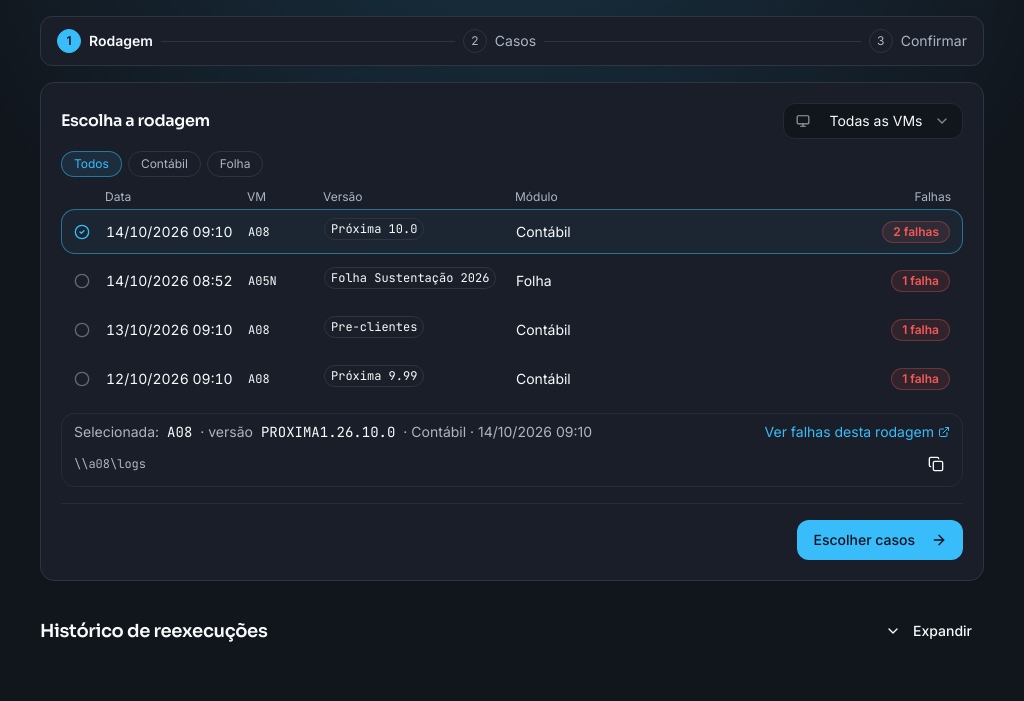
Test: Reexecutar rodagens (etapas) › historico de reexecucoes em paginas de 10, sem o ocultar finalizadas
(page scrolled)
expect the heading "Histórico de reexecuções" is shown: met, box [40,617,268,645]
Click the button "Expandir".
click(928, 631)  # box [873,613,984,649]
(page scrolled)
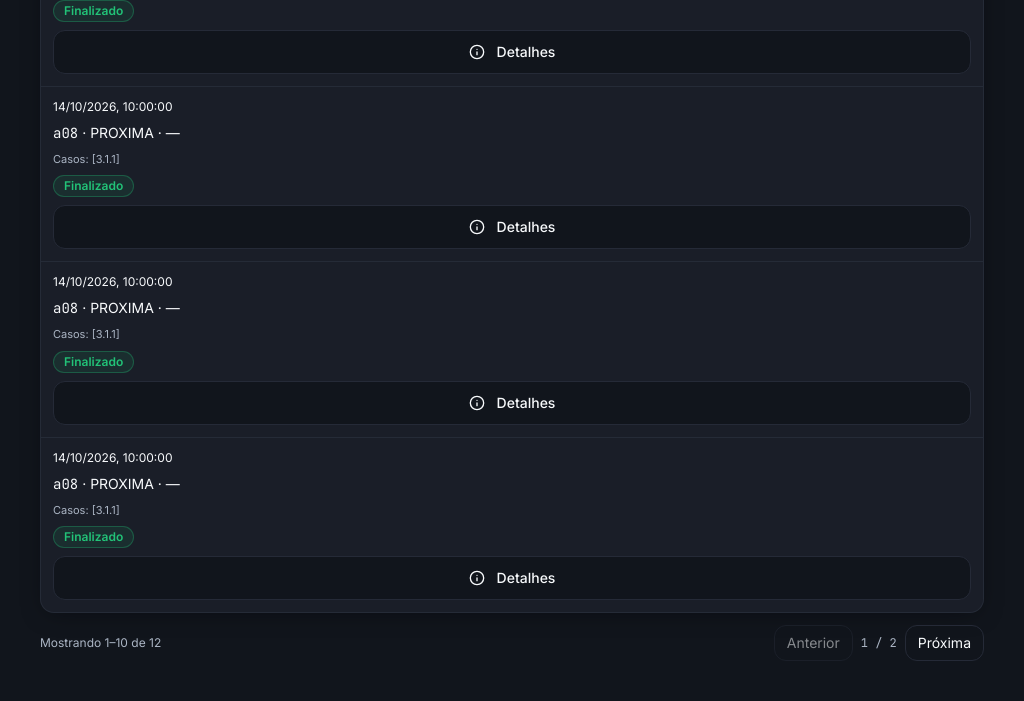
expect the text "Mostrando 1–10 de 12" is shown: met, box [40,635,161,651]
Click the button "Próxima".
click(944, 643)  # box [905,625,984,661]
(page scrolled)
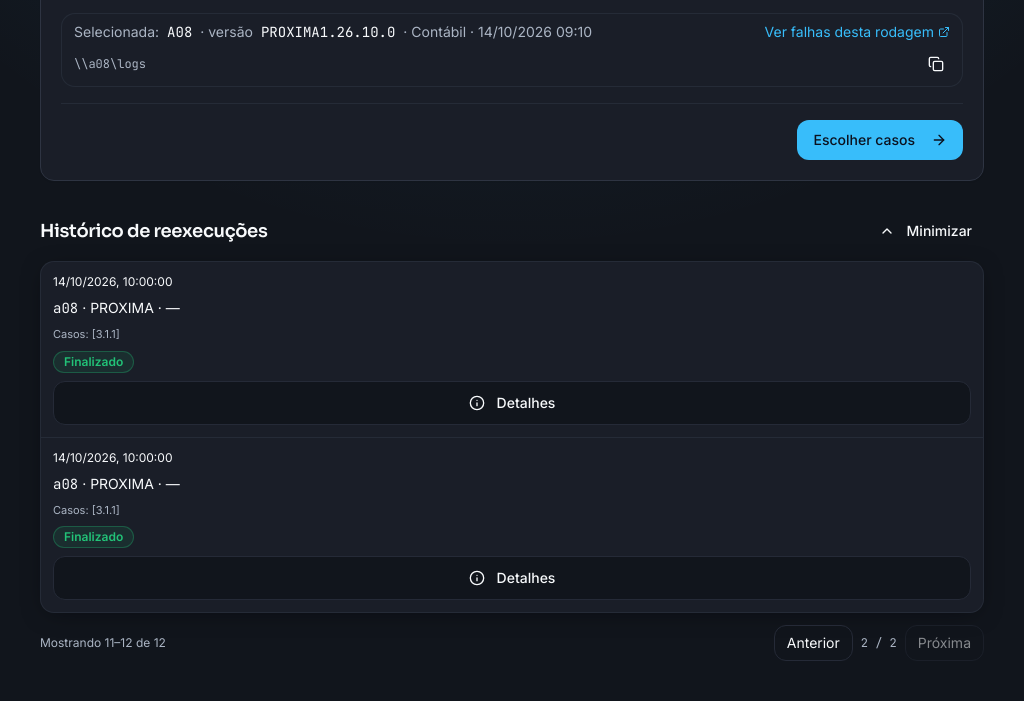
expect the text "Mostrando 11–12 de 12" is shown: met, box [40,635,166,651]
